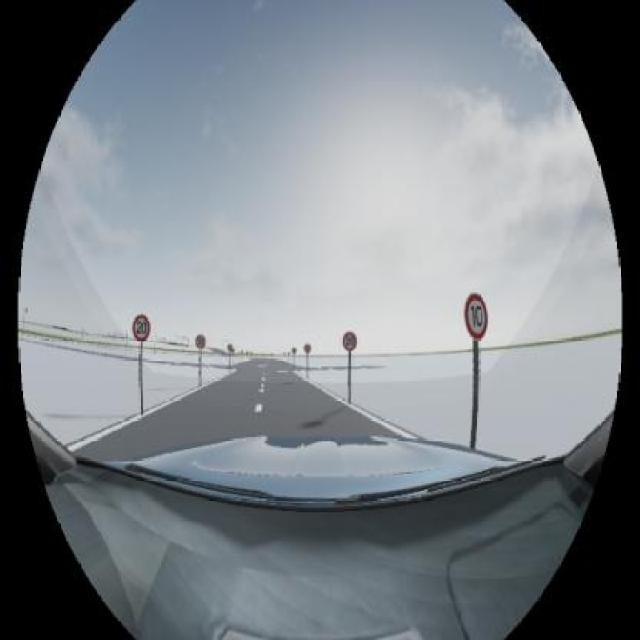forb_speed_over_10: (464, 292, 488, 339)
forb_speed_over_20: (132, 312, 150, 340), (341, 332, 357, 350)
